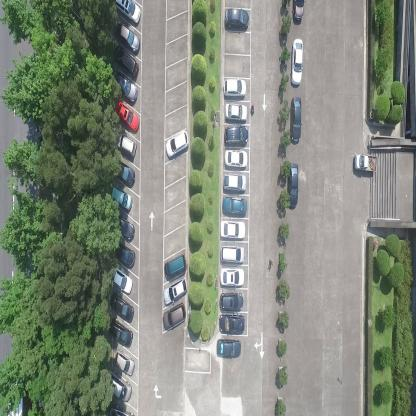car: (112, 43, 139, 77), (108, 290, 134, 324), (114, 98, 140, 132), (112, 69, 138, 103), (106, 368, 131, 403), (115, 20, 140, 53), (107, 316, 133, 346), (162, 276, 188, 305), (165, 127, 190, 157), (163, 300, 186, 331), (115, 0, 141, 26), (290, 37, 303, 87), (224, 7, 250, 32), (289, 95, 302, 144), (219, 219, 246, 242), (164, 252, 186, 280), (111, 266, 133, 294), (115, 160, 136, 188), (115, 239, 135, 268), (287, 161, 299, 209), (110, 186, 134, 210), (116, 132, 138, 158), (114, 348, 135, 375), (116, 213, 135, 242), (220, 244, 245, 266), (219, 314, 245, 335), (225, 125, 248, 148), (224, 148, 248, 170), (223, 78, 246, 100), (223, 172, 246, 194), (353, 154, 378, 174), (219, 292, 244, 312), (216, 337, 241, 357), (222, 196, 247, 215), (220, 268, 245, 287), (224, 102, 247, 121), (290, 0, 305, 23), (108, 404, 136, 415)
